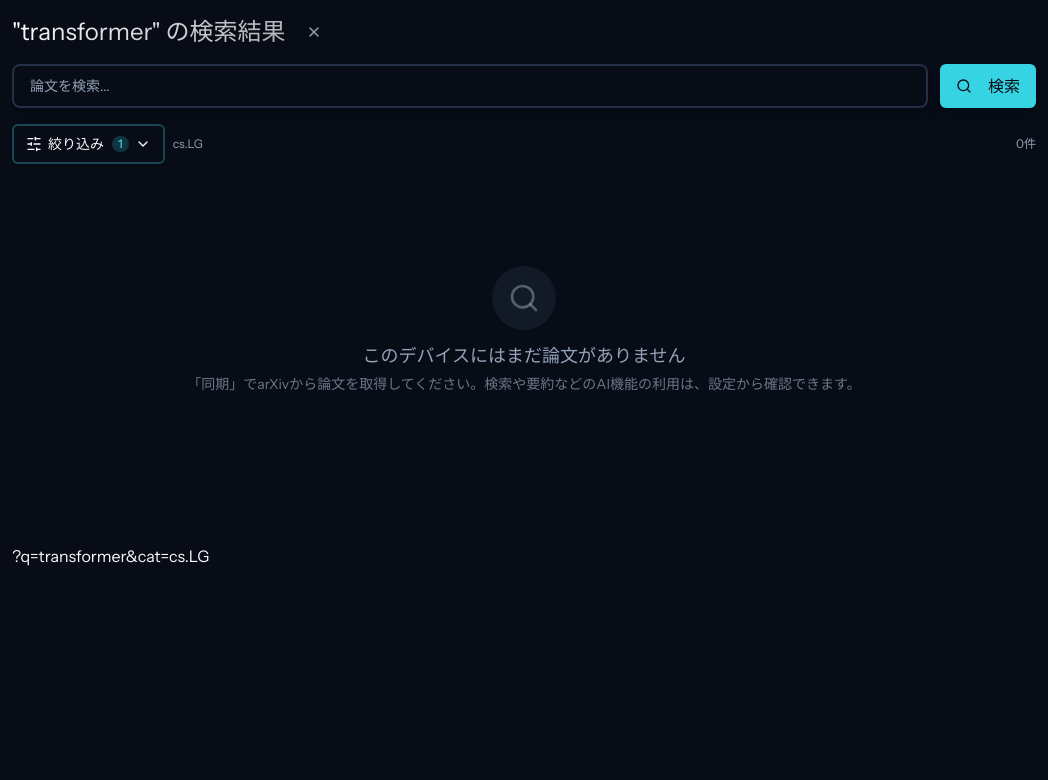
Test: PaperExplorer › モバイルの絞り込み（一覧と並べて操作する） › 検索0件でカテゴリ条件だけが有効なときに解除しても、開閉ボタンを消さずフォーカスを保つ
Click the button "絞り込み 1" at x=88, y=144, box [12,124,165,164]
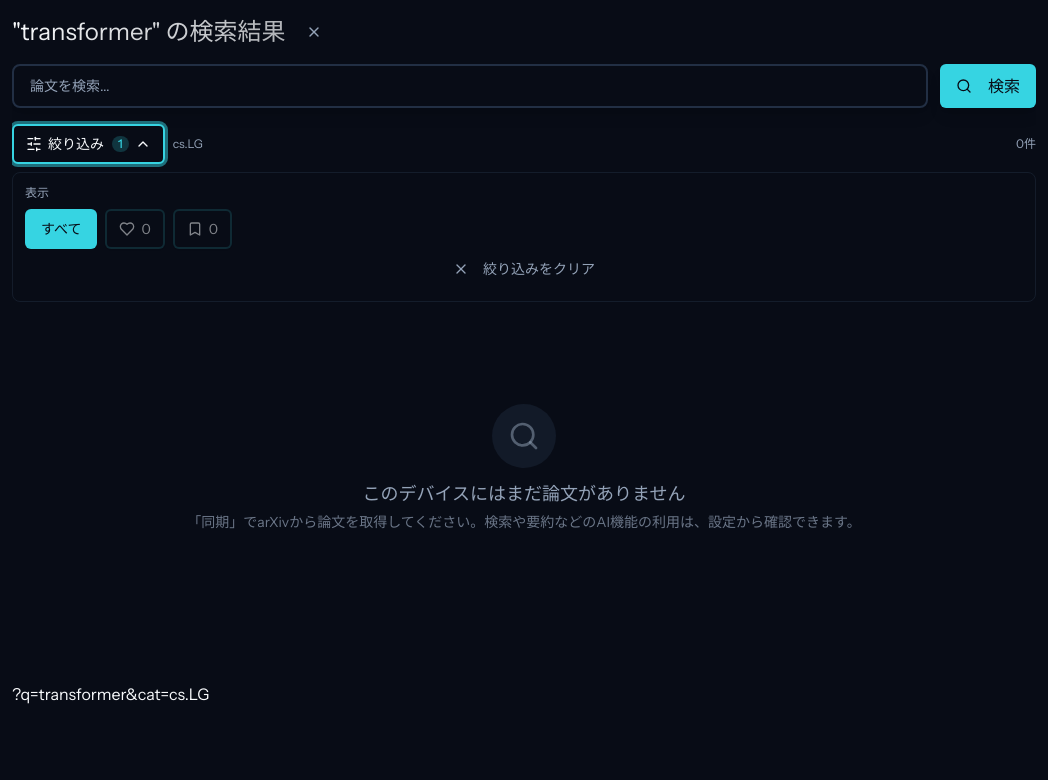
Click the button "絞り込みをクリア" at x=524, y=269, box [25,249,1023,289]
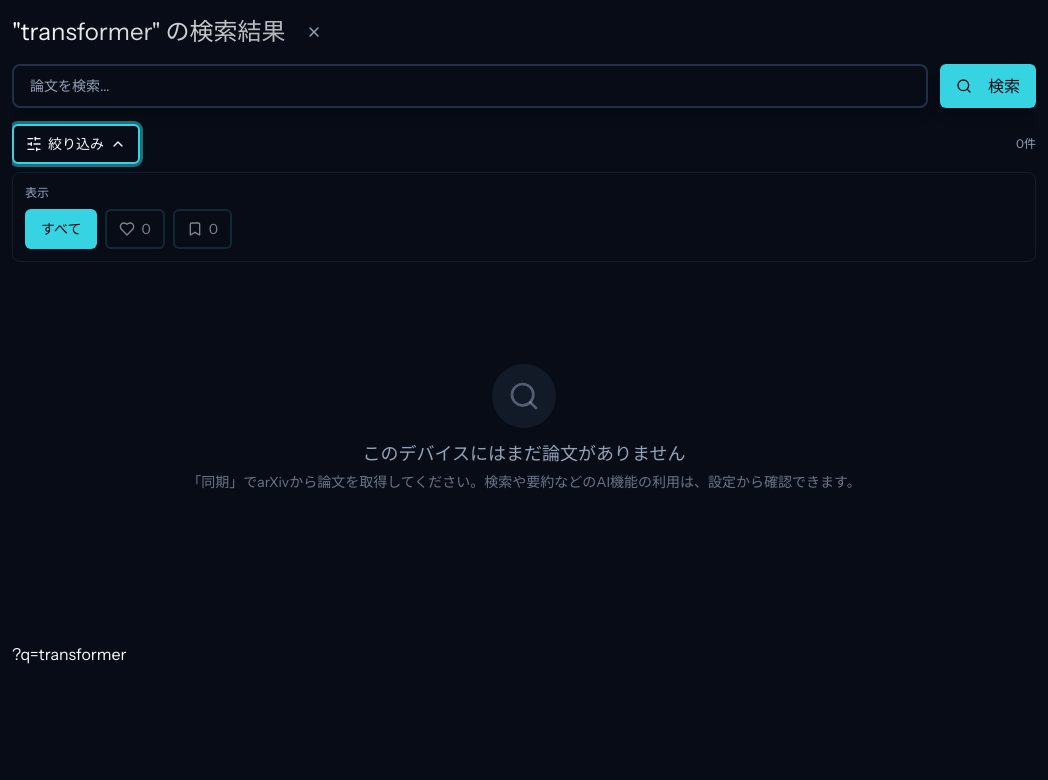
Expected: the button "絞り込み" is expanded
Expected: the text with test id "location-search" reads "?q=transformer", [12,644,126,664]
// 閉じたら、絞り込む対象がないので開閉ボタンも消える。フォーカスは検索欄へ移す
Click the button "絞り込み" at x=76, y=144, box [12,124,140,164]
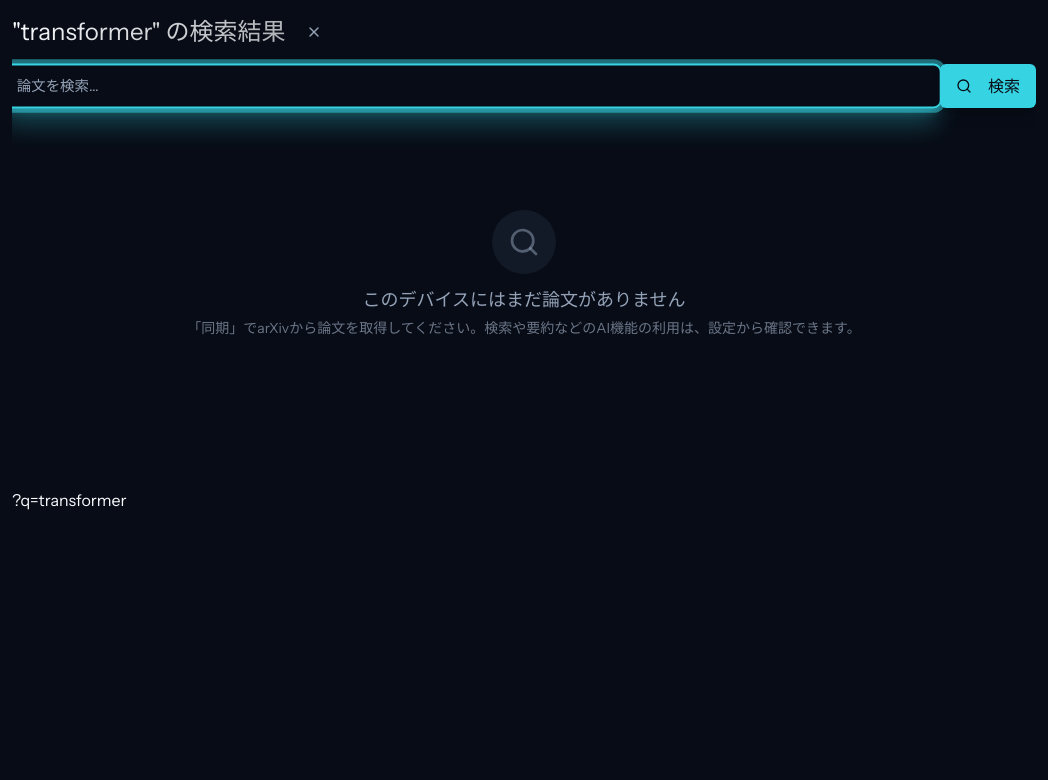
Expected: the button "絞り込み" is gone
